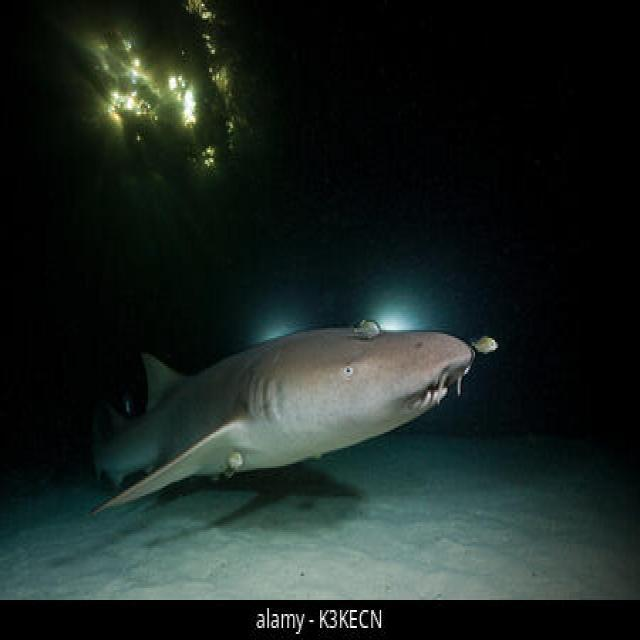Shark: (66, 158, 514, 530)
